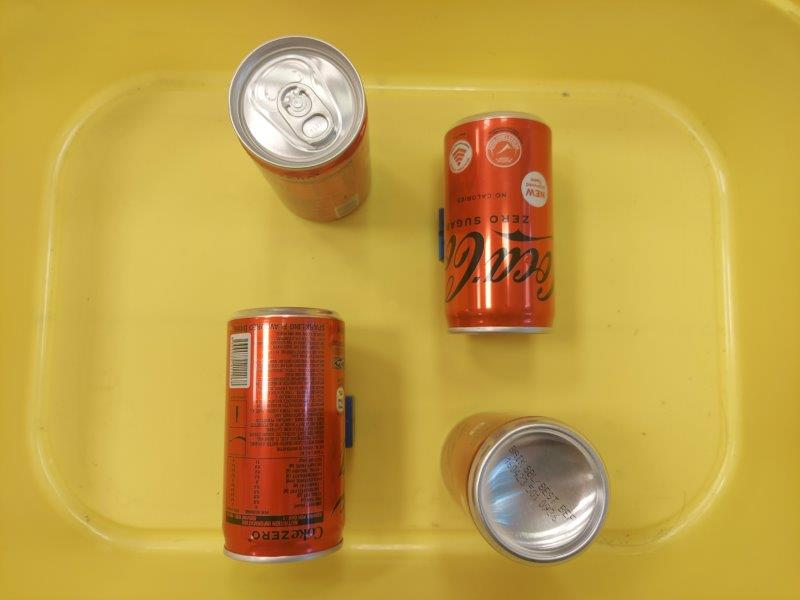Coke: (225, 308, 345, 562), (230, 36, 373, 224), (440, 413, 610, 564), (444, 111, 554, 335)
